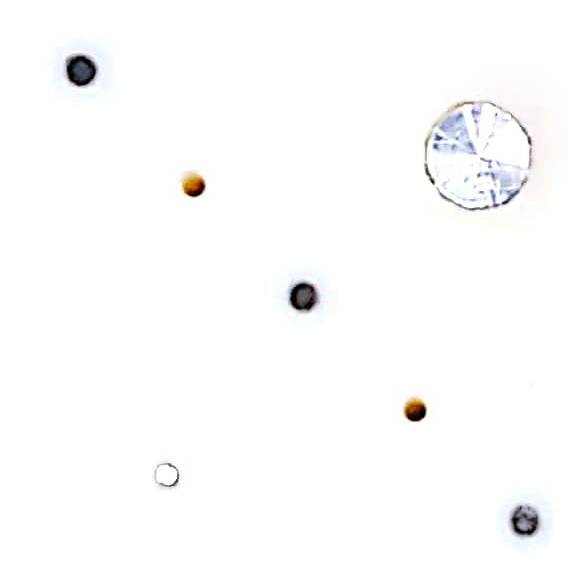abnormal: (392, 72, 564, 234), (140, 442, 207, 505)
cancer: (43, 33, 124, 112), (485, 480, 563, 560), (274, 257, 352, 331)
normal: (168, 160, 228, 213), (396, 388, 439, 434)
